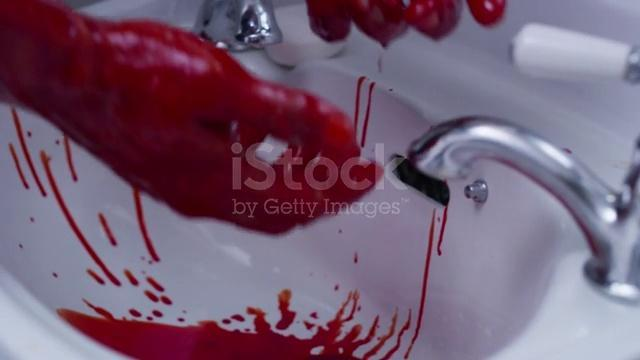Fire: (0, 0, 380, 286), (58, 290, 412, 360), (307, 0, 461, 47), (405, 209, 436, 360), (361, 81, 376, 146), (468, 0, 507, 25), (142, 276, 173, 306), (354, 75, 366, 138), (82, 300, 116, 320), (98, 213, 117, 246), (221, 313, 251, 332), (438, 205, 448, 256), (128, 309, 164, 320), (123, 269, 141, 286), (17, 242, 33, 258), (353, 250, 362, 269), (334, 284, 340, 292), (51, 273, 58, 278), (29, 216, 34, 222)
